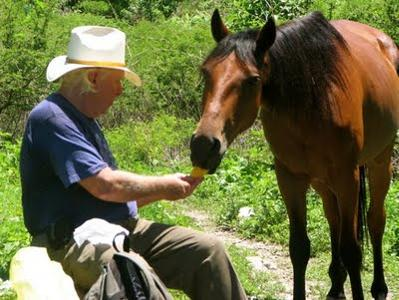person: (20, 26, 247, 300)
